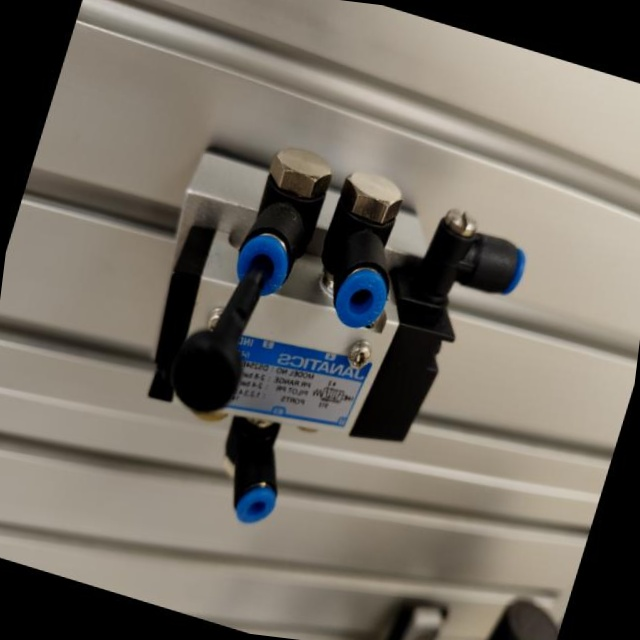5by2 DCV: (70, 97, 555, 596)
